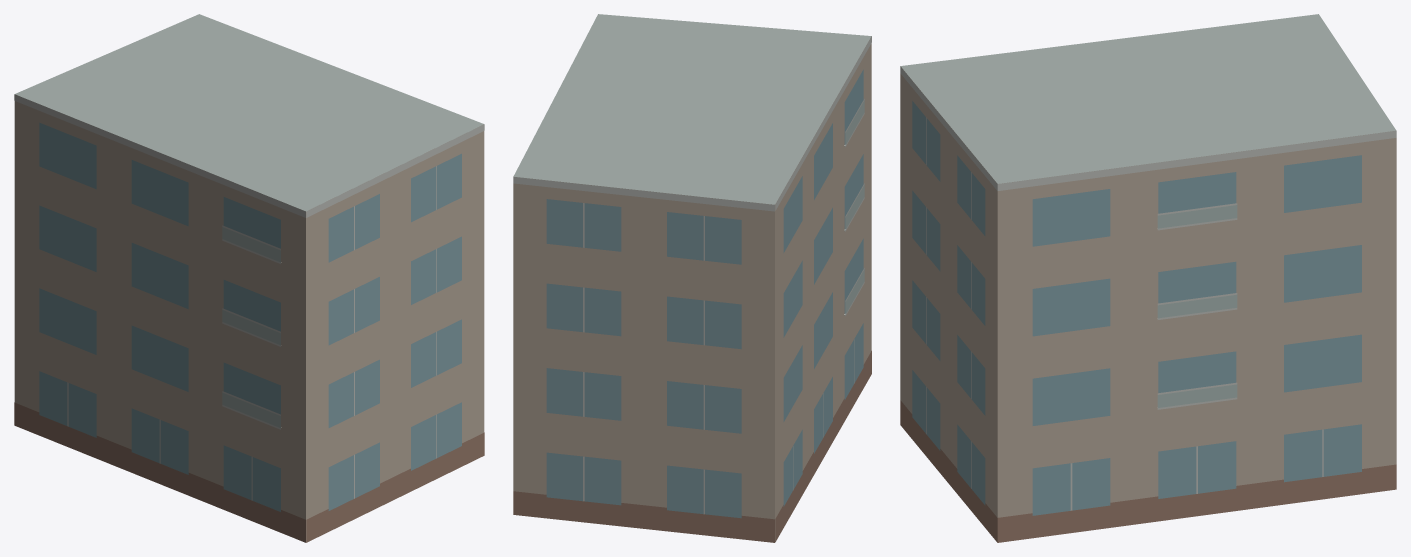
File: survey-upis-32921749.glb
3 views of the same model, side by side, from view 1: azimuth 30°, elevation 25°; view 2: azimuth 150°, elevation 25°; view 3: azimuth 270°, elevation 25° (orthographic). The views are drawn at different scales.
Parts seen in each view (by area): view 1: survey-upis-32921749.tmp; view 2: survey-upis-32921749.tmp; view 3: survey-upis-32921749.tmp.
Boxes of the visible parts, bbox=[...] form: survey-upis-32921749.tmp: bbox=[14, 14, 484, 542]; survey-upis-32921749.tmp: bbox=[513, 14, 871, 542]; survey-upis-32921749.tmp: bbox=[900, 14, 1396, 542].
Bounding box in the file's own units: 12.4 × 12.2 × 15.3.
